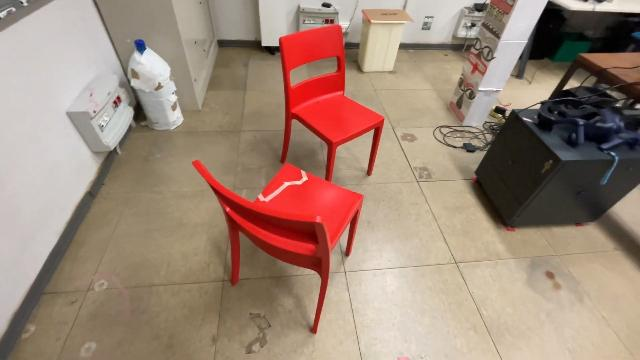Chair: (190, 155, 366, 339), (275, 22, 387, 188)
